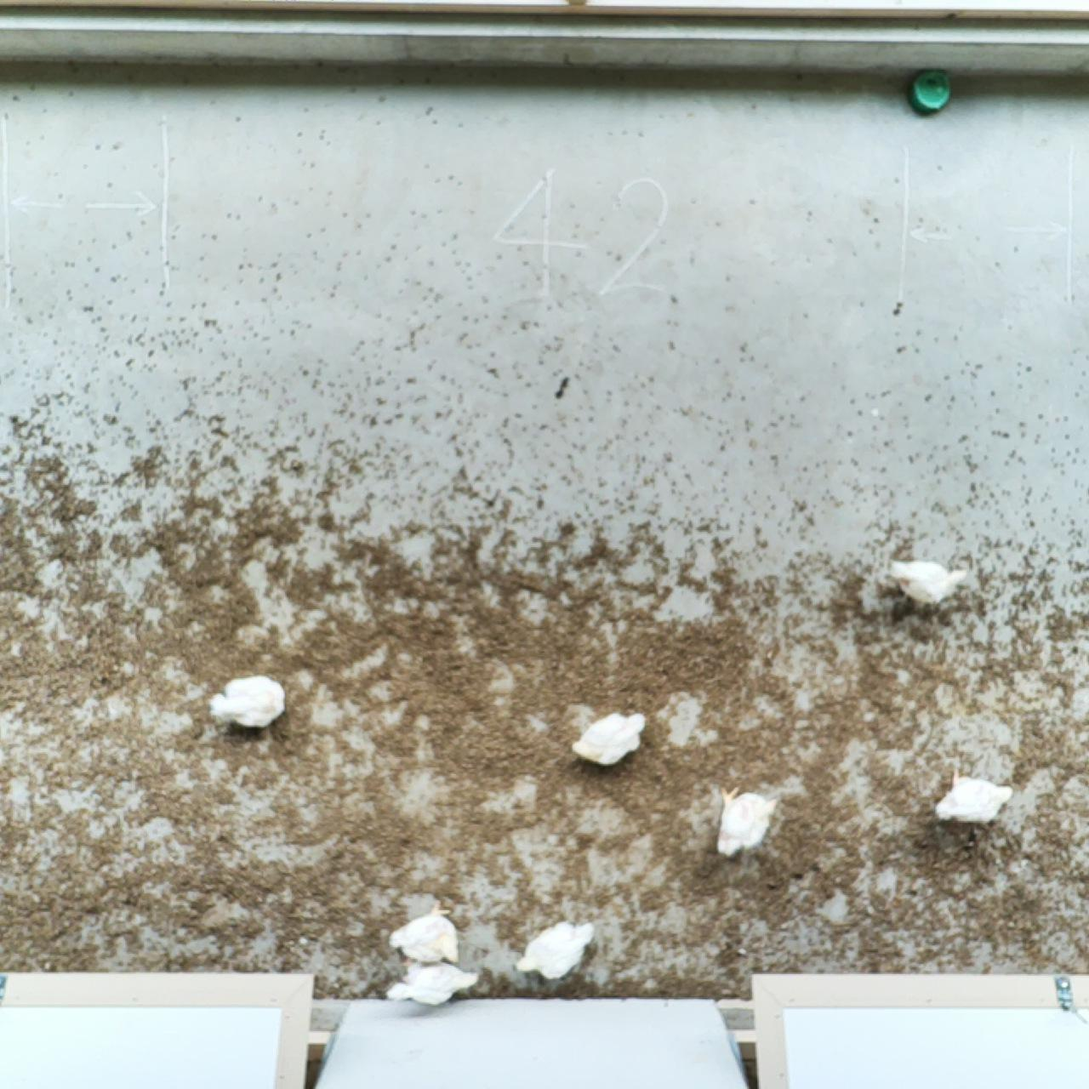chicken: (513, 917, 605, 985), (932, 764, 1019, 830), (715, 781, 786, 860), (384, 902, 462, 969), (884, 551, 968, 609), (570, 708, 650, 768), (387, 956, 481, 1007), (204, 673, 284, 728)
